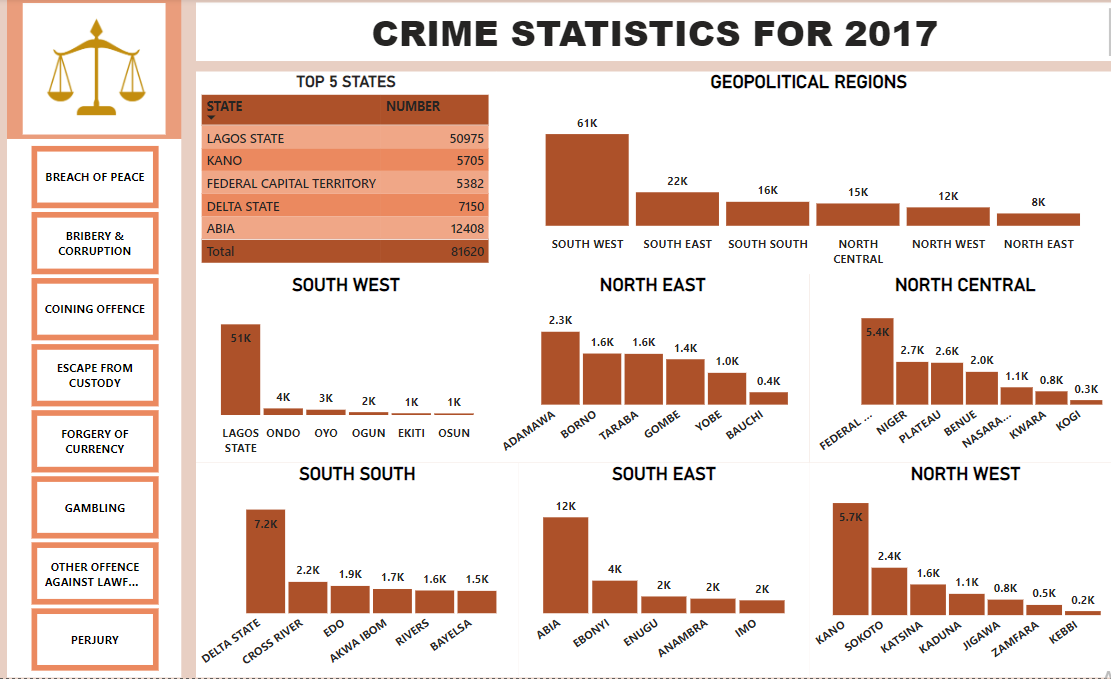

The dashboard page shown, as its layout file describes it:
{"tool":"powerbi","page":{"name":"Page 1","canvas":[1280,720],"ordinal":0},"visuals":[{"type":"columnChart","title":"GEOPOLITICAL REGIONS","fields":{"Y":["Sum(Offence_Table.NUMBER)"],"Category":["State_Dim_Table.REGION"]},"box":[616.7,77.9,662.8,214.6],"z":0},{"type":"columnChart","title":"NORTH CENTRAL","fields":{"Category":["State_Dim_Table.STATE"],"Y":["Sum(Offence_Table.NUMBER)"]},"box":[948.9,292.5,330.6,200.3],"z":1000},{"type":"columnChart","title":"NORTH EAST","fields":{"Category":["State_Dim_Table.STATE"],"Y":["Sum(Offence_Table.NUMBER)"]},"box":[616.7,292.5,332.2,200.3],"z":2000},{"type":"columnChart","title":"NORTH WEST","fields":{"Category":["State_Dim_Table.STATE"],"Y":["Sum(Offence_Table.NUMBER)"]},"box":[948.9,492.7,330.6,227.3],"z":3000},{"type":"columnChart","title":"SOUTH EAST","fields":{"Category":["State_Dim_Table.STATE"],"Y":["Sum(Offence_Table.NUMBER)"]},"box":[640.5,492.7,308.3,227.3],"z":4000},{"type":"columnChart","title":"SOUTH SOUTH","fields":{"Category":["State_Dim_Table.STATE"],"Y":["Sum(Offence_Table.NUMBER)"]},"box":[298.8,492.7,341.7,227.3],"z":5000},{"type":"columnChart","title":"SOUTH WEST","fields":{"Category":["State_Dim_Table.STATE"],"Y":["Sum(Offence_Table.NUMBER)"]},"box":[298.8,292.5,317.9,200.3],"z":6000},{"type":"tableEx","title":"TOP 5 STATES","fields":{"Values":["State_Dim_Table.STATE","Sum(Offence_Table.NUMBER)"]},"box":[298.8,77.9,317.9,214.6],"z":7000},{"type":"slicer","fields":{"Values":["Offence_Table.OFFENCE SUBCATEGORY"]},"box":[98.5,149.4,184.4,570.6],"z":8000},{"type":"textbox","box":[298.8,4.8,980.7,62],"z":11000},{"type":"image","box":[98.5,0,184.4,149.4],"z":11001}]}

Visuals, with their boxes on the page's 1280x720 design canvas (x1, y1, x2, y2). These are canvas units, not pixel positions in the 1111x679 screenshot, which may show the page scaled, cropped or inside an application window:
"GEOPOLITICAL REGIONS" columnChart: [x1=617, y1=78, x2=1280, y2=292]
"NORTH CENTRAL" columnChart: [x1=949, y1=292, x2=1280, y2=493]
"NORTH EAST" columnChart: [x1=617, y1=292, x2=949, y2=493]
"NORTH WEST" columnChart: [x1=949, y1=493, x2=1280, y2=720]
"SOUTH EAST" columnChart: [x1=640, y1=493, x2=949, y2=720]
"SOUTH SOUTH" columnChart: [x1=299, y1=493, x2=640, y2=720]
"SOUTH WEST" columnChart: [x1=299, y1=292, x2=617, y2=493]
"TOP 5 STATES" tableEx: [x1=299, y1=78, x2=617, y2=292]
slicer - Offence_Table.OFFENCE SUBCATEGORY: [x1=98, y1=149, x2=283, y2=720]
textbox: [x1=299, y1=5, x2=1280, y2=67]
image: [x1=98, y1=0, x2=283, y2=149]
